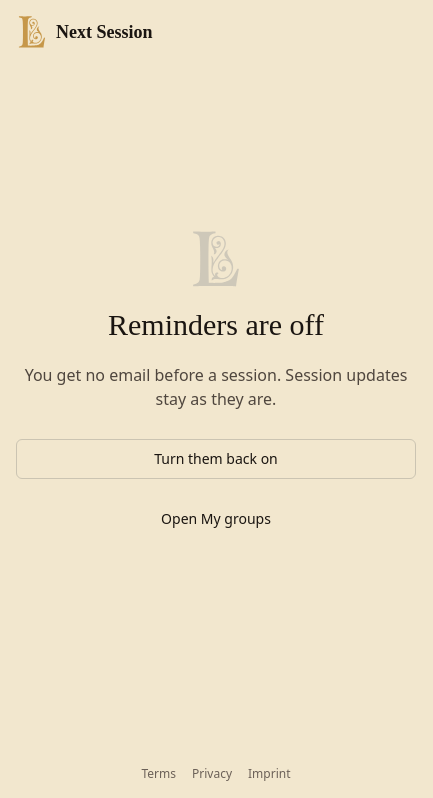
Test case: RemindersOff › turns Reminders back on from the same page and asks again
The image size is (433, 798).
Click the button "Turn them back on".
click(216, 459)  # box [16,439,416,479]
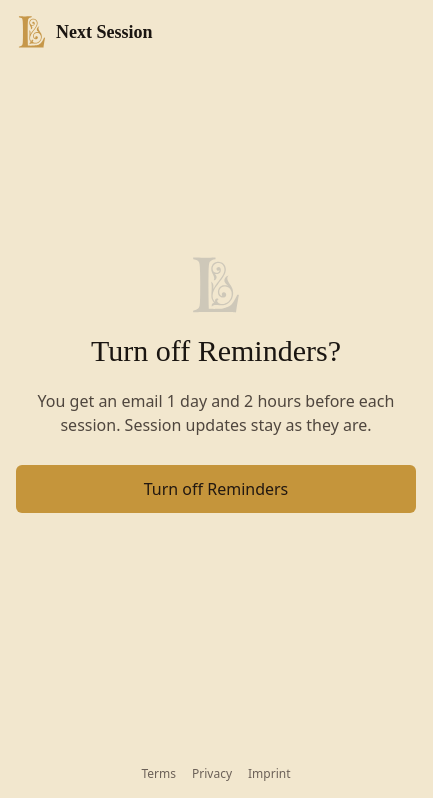
Now the heading "Turn off Reminders?" is shown, box [91,333,341,369]
Now the button "Turn off Reminders" is shown, box [16,465,416,513]
